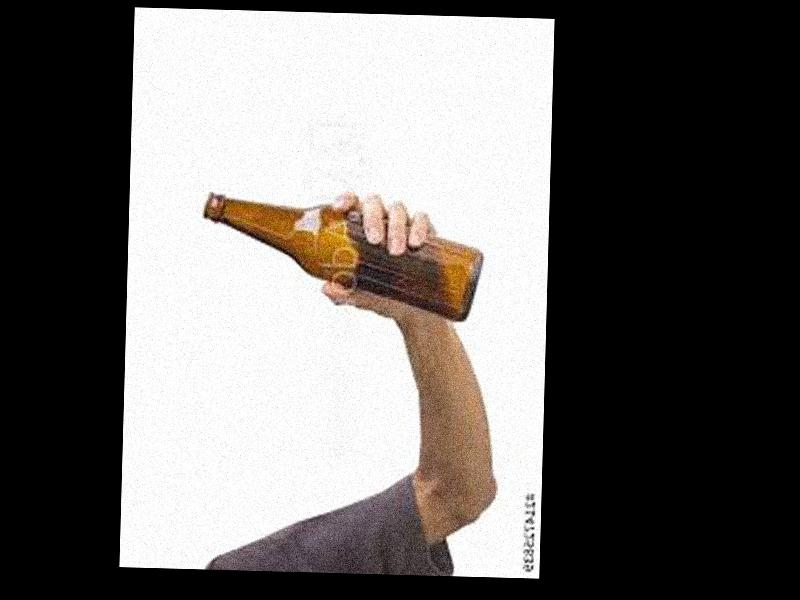Beer: (199, 190, 485, 322)
